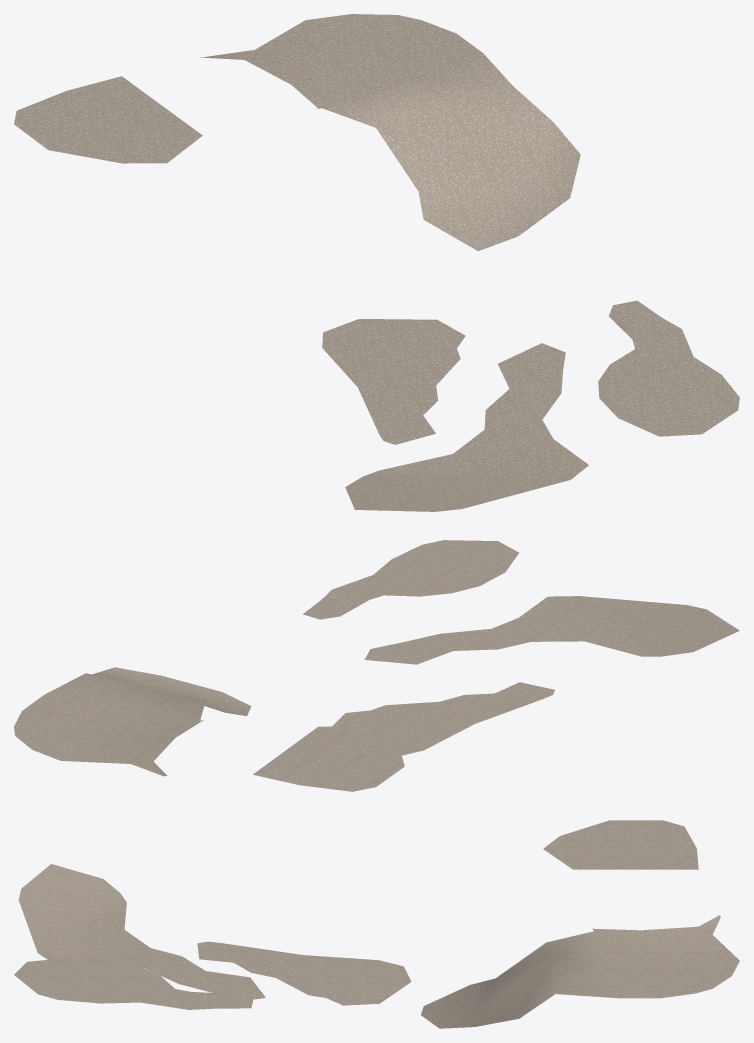
Rendered from kd_connection_town-ground_surface_4_5.glb.
3 renders of one model, top to bottom at view 1: azimuth 30°, elevation 25°; view 2: azimuth 150°, elevation 25°; view 3: azimuth 270°, elevation 25°, orthographic. The views are drawn at different scales.
Parts seen in each view (by area): view 1: kd_connection_town-ground_surface_4_5; view 2: kd_connection_town-ground_surface_4_5; view 3: kd_connection_town-ground_surface_4_5.
Boxes of the visible parts, bbox=[...] form: kd_connection_town-ground_surface_4_5: bbox=[14, 14, 739, 511]; kd_connection_town-ground_surface_4_5: bbox=[14, 540, 739, 791]; kd_connection_town-ground_surface_4_5: bbox=[14, 820, 739, 1028].
Size of the model in its own units: 46.02 by 10.5 by 74.59.
1 material, 1 textured.
